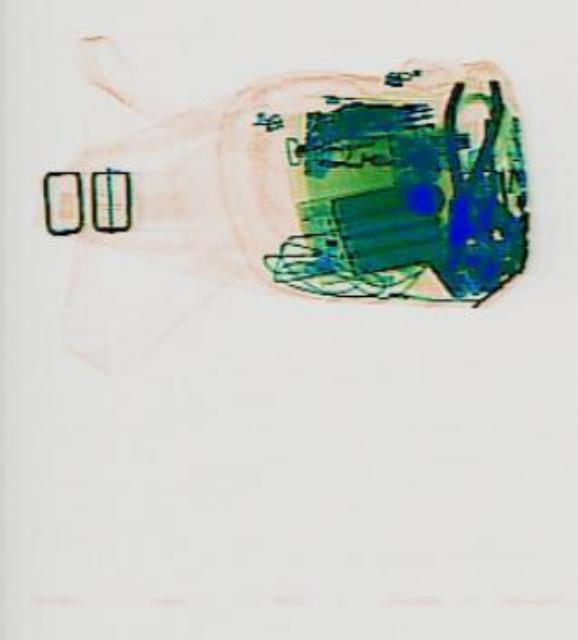Pliers: (427, 73, 502, 255)
